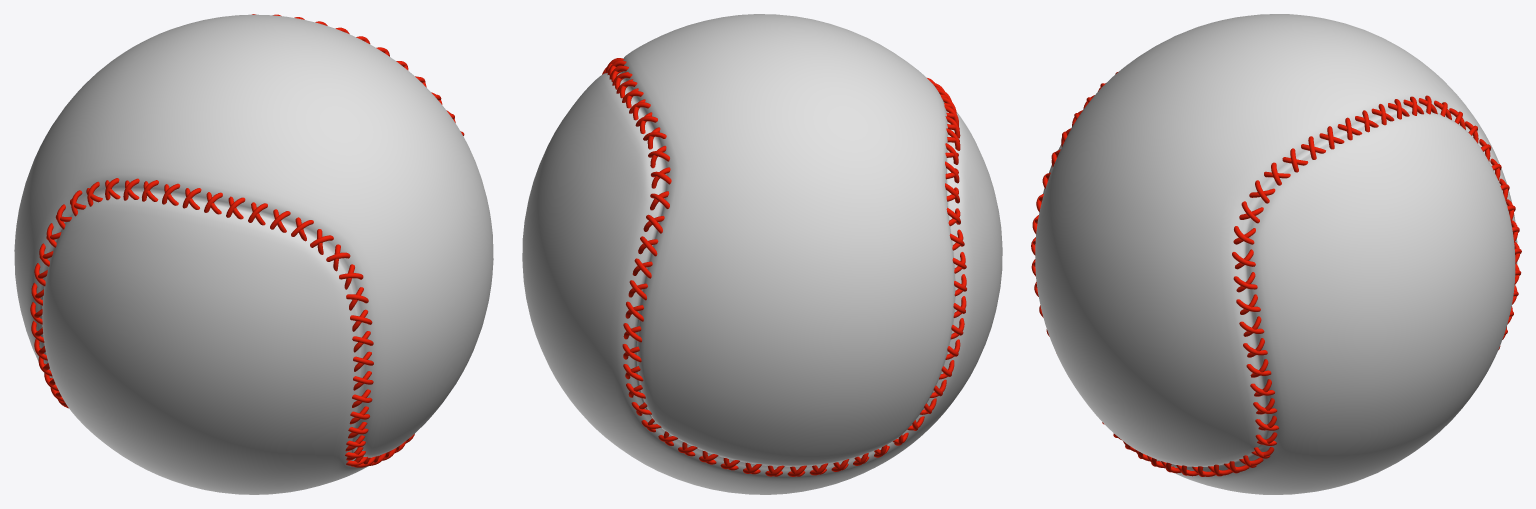
Rendered from Baseball_ball.fbx.
3 views of the same model, side by side, from view 1: azimuth 30°, elevation 25°; view 2: azimuth 150°, elevation 25°; view 3: azimuth 270°, elevation 25° (orthographic).
Parts seen in each view (by area): view 1: baseball ball 1, baseball ball 2; view 2: baseball ball 1, baseball ball 2; view 3: baseball ball 1, baseball ball 2.
Boxes of the visible parts, x1,y1,x2,y2 form: baseball ball 1: [14, 14, 493, 494]; baseball ball 2: [30, 14, 464, 467]; baseball ball 1: [522, 14, 1002, 494]; baseball ball 2: [602, 58, 966, 476]; baseball ball 1: [1035, 14, 1517, 494]; baseball ball 2: [1031, 72, 1521, 476].
Bounding box in the file's own units: 7.47 × 7.34 × 7.49.
